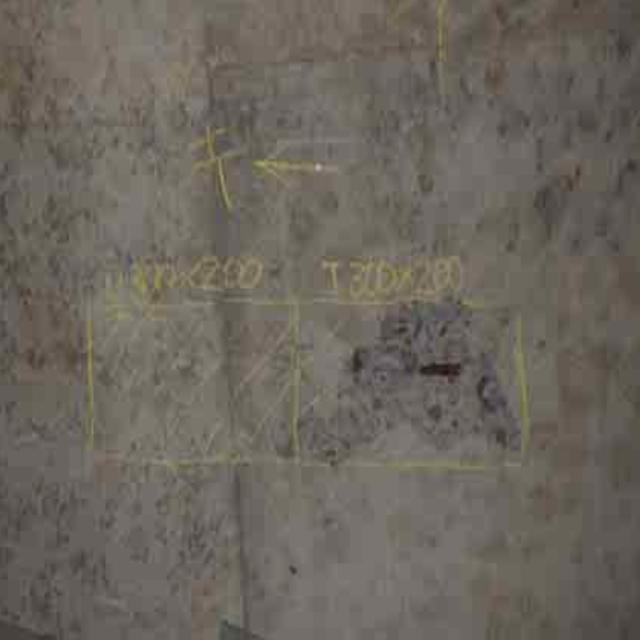spalling: (282, 266, 548, 490)
